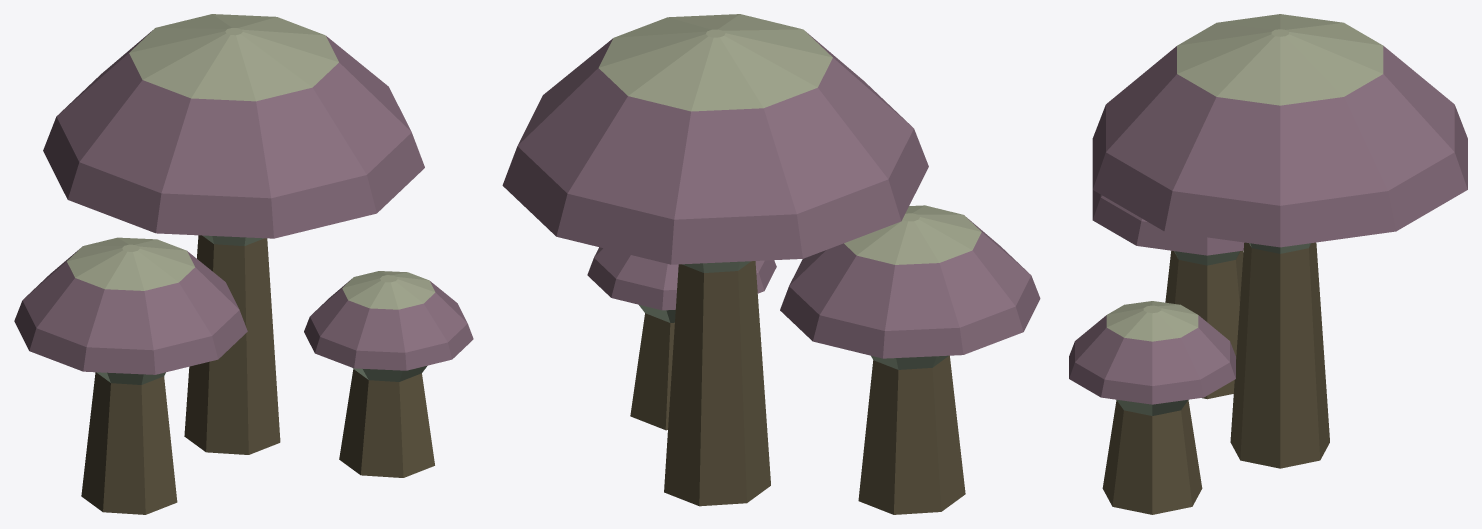
File: mushroom-cluster.glb
3 renders of one model, left to right at view 1: azimuth 30°, elevation 25°; view 2: azimuth 150°, elevation 25°; view 3: azimuth 270°, elevation 25°, orthographic. The views are drawn at different scales.
Visible parts, largest first — view 1: mushroom-cluster__body; view 2: mushroom-cluster__body; view 3: mushroom-cluster__body.
Boxes of the visible parts, <box> form: mushroom-cluster__body: <box>14,14,473,514</box>; mushroom-cluster__body: <box>502,14,1040,514</box>; mushroom-cluster__body: <box>1069,14,1467,514</box>.
Size of the model in its own units: 1.32 by 1.25 by 1.09.
